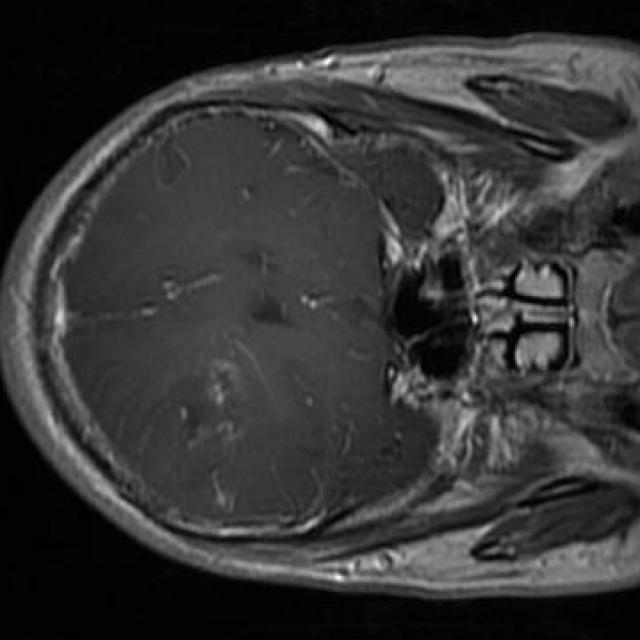glioma: (178, 360, 248, 453)
